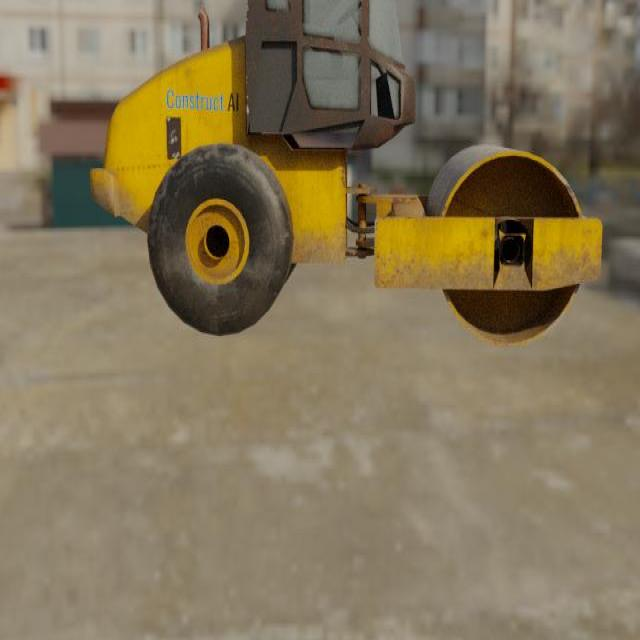Roller: (89, 0, 602, 348)
